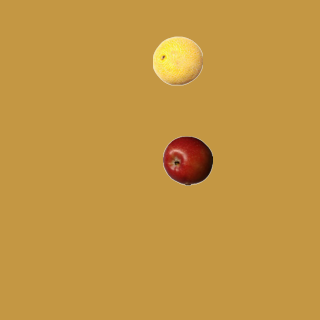Apple Braeburn: (162, 135, 212, 185)
Cantaloupe 1: (152, 35, 202, 85)
